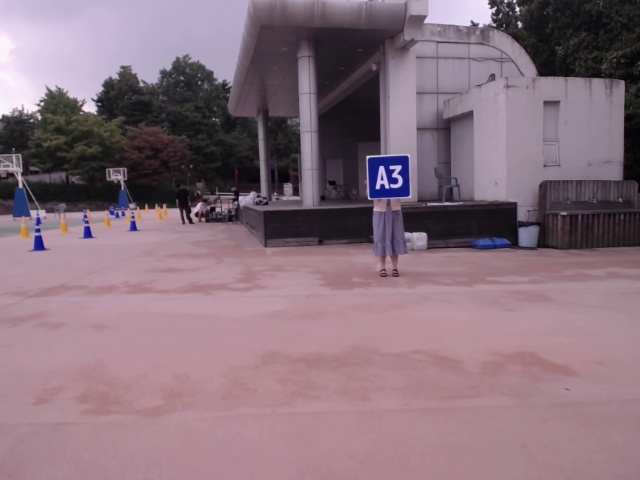delivery_a3: (368, 155, 412, 199)
